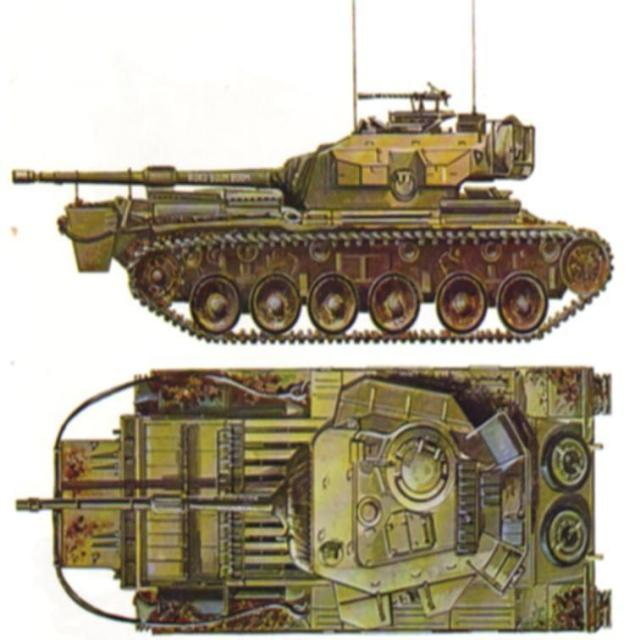Tanks: (25, 364, 622, 627), (32, 77, 618, 344)
